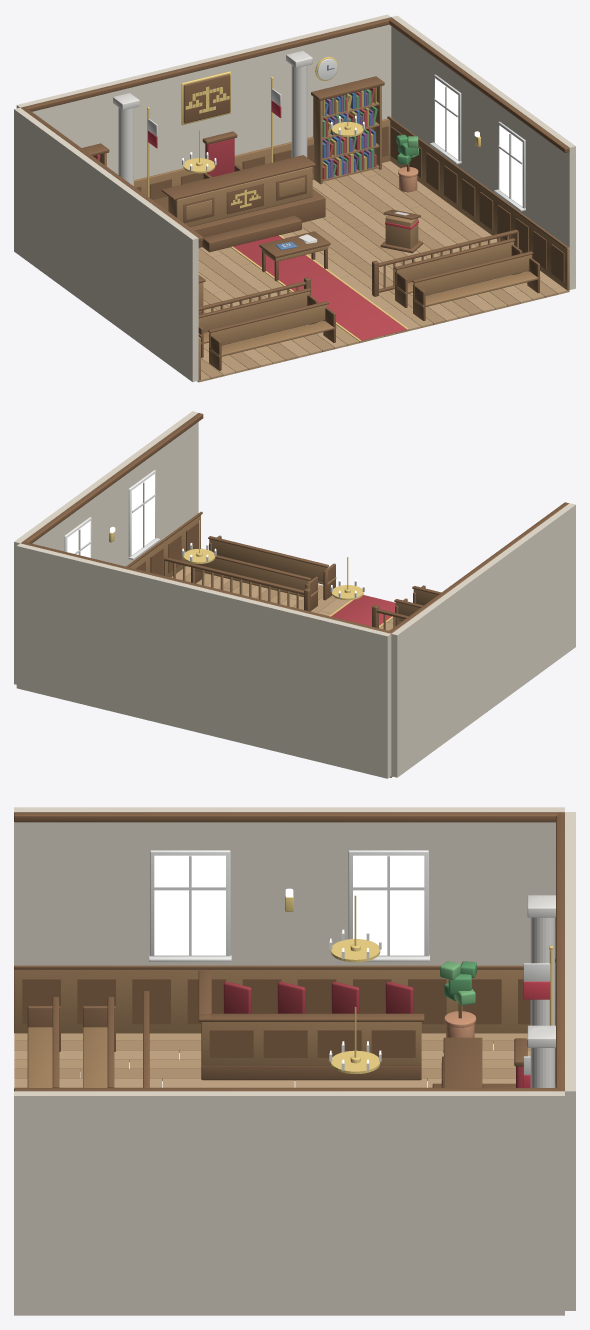
Rendered from courtroom.glb.
3 views of the same model, one above another, from view 1: azimuth 30°, elevation 25°; view 2: azimuth 150°, elevation 25°; view 3: azimuth 270°, elevation 25° (orthographic). The views are drawn at different scales.
Visible parts, largest first — view 1: set_mesh; view 2: set_mesh; view 3: set_mesh.
Part boxes in pixels (left/top/right/bottom): set_mesh: left=14, top=14, right=575, bottom=382; set_mesh: left=14, top=411, right=575, bottom=778; set_mesh: left=14, top=807, right=575, bottom=1315.
Bounding box in the file's own units: 12.4 × 4.46 × 10.2.
